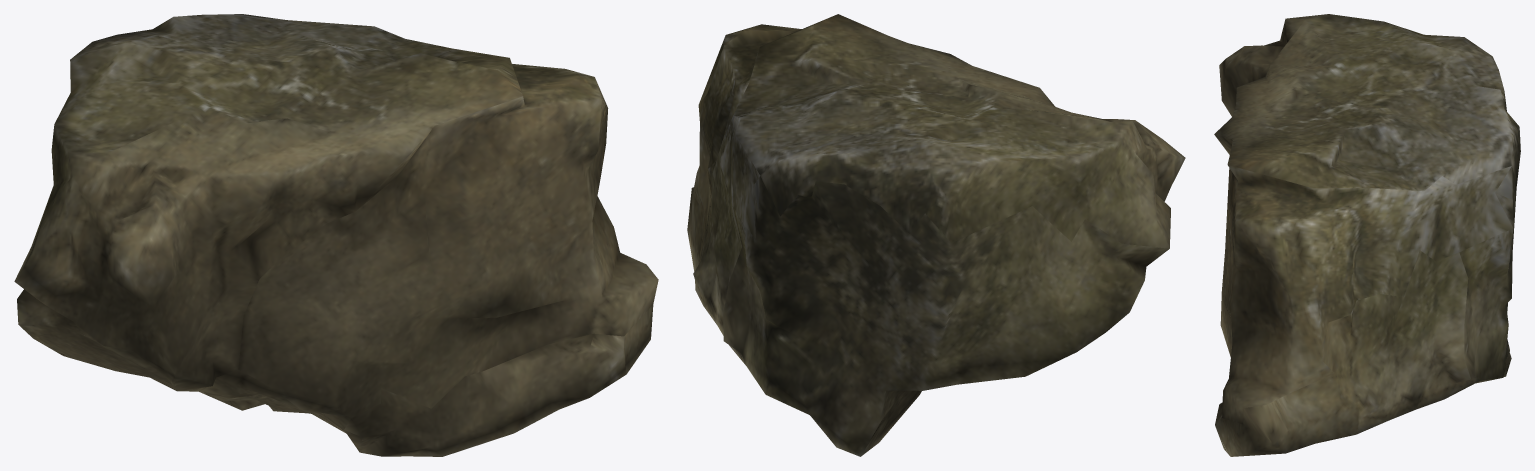
The model's file is pine_rockb_13.glb.
The picture shows the model from 3 angles, left to right: view 1: azimuth 30°, elevation 25°; view 2: azimuth 150°, elevation 25°; view 3: azimuth 270°, elevation 25°; orthographic projection. The views are drawn at different scales.
Parts seen in each view (by area): view 1: pine_rockb_13; view 2: pine_rockb_13; view 3: pine_rockb_13.
Part boxes in pixels (<box>): pine_rockb_13: <box>14,14,658,456</box>; pine_rockb_13: <box>687,14,1185,456</box>; pine_rockb_13: <box>1214,14,1520,456</box>.
Size of the model in its own units: 1.87 by 1.12 by 1.02.
1 material, 1 textured.
